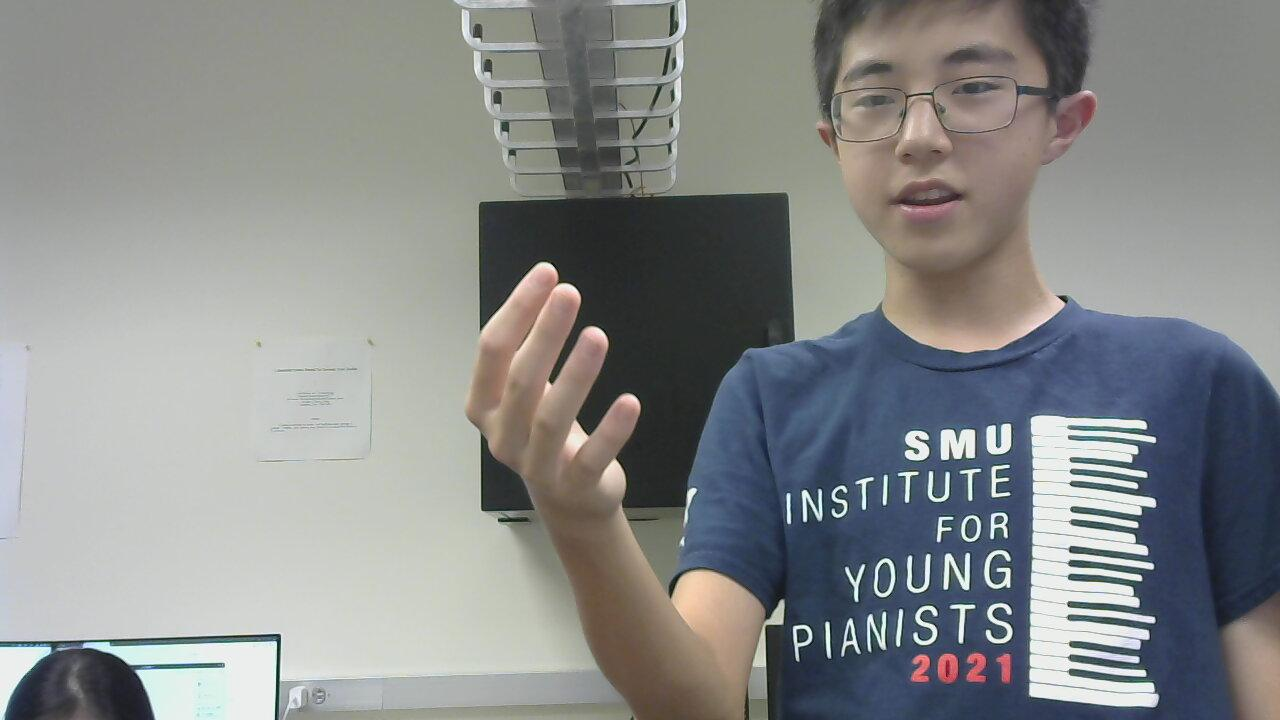hands: (462, 256, 646, 525)
